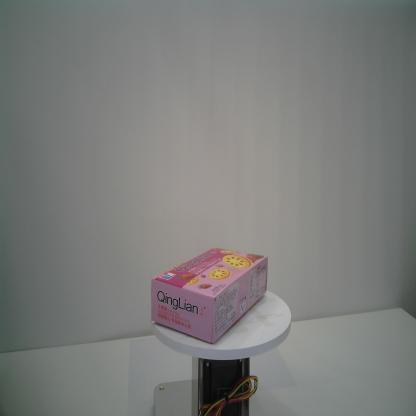Dessert: (151, 247, 268, 345)
